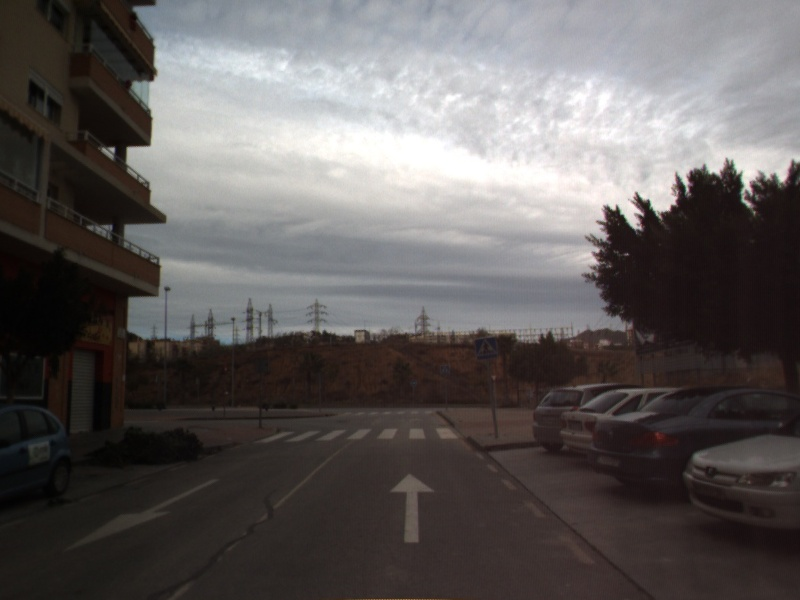STRAIGHT: (388, 471, 437, 545)
